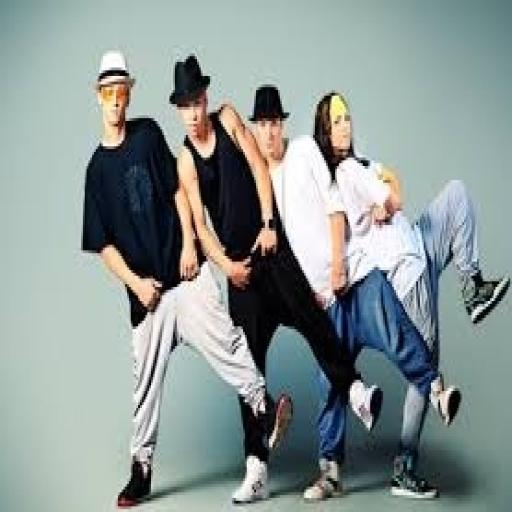dancing: (88, 44, 457, 456)
